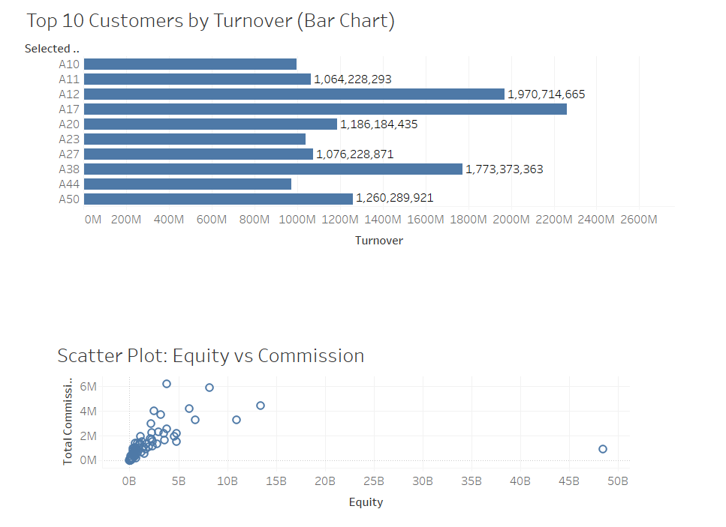

What the dashboard file says about the page in this screenshot:
{"tool":"tableau","page":{"name":"Dashboard 2","canvas":[1000,800],"ordinal":1},"visuals":[{"type":"text","box":[87,10,842,52]},{"type":"worksheet","title":"Sheet 3","mark":"Automatic","rows":["Calculation_1055541705064576"],"cols":["Turnover"],"box":[42,69,868,319]},{"type":"worksheet","title":"Sheet 4","mark":"Automatic","rows":["Total Commission"],"cols":["Equity"],"box":[65,393,767,235]}]}

Visuals, with their boxes on the page's 1000x800 design canvas (x1, y1, x2, y2). These are canvas units, not pixel positions in the 726x527 screenshot, which may show the page scaled, cropped or inside an application window:
text: rect(87, 10, 929, 62)
"Sheet 3" worksheet: rect(42, 69, 910, 388)
"Sheet 4" worksheet: rect(65, 393, 832, 628)
